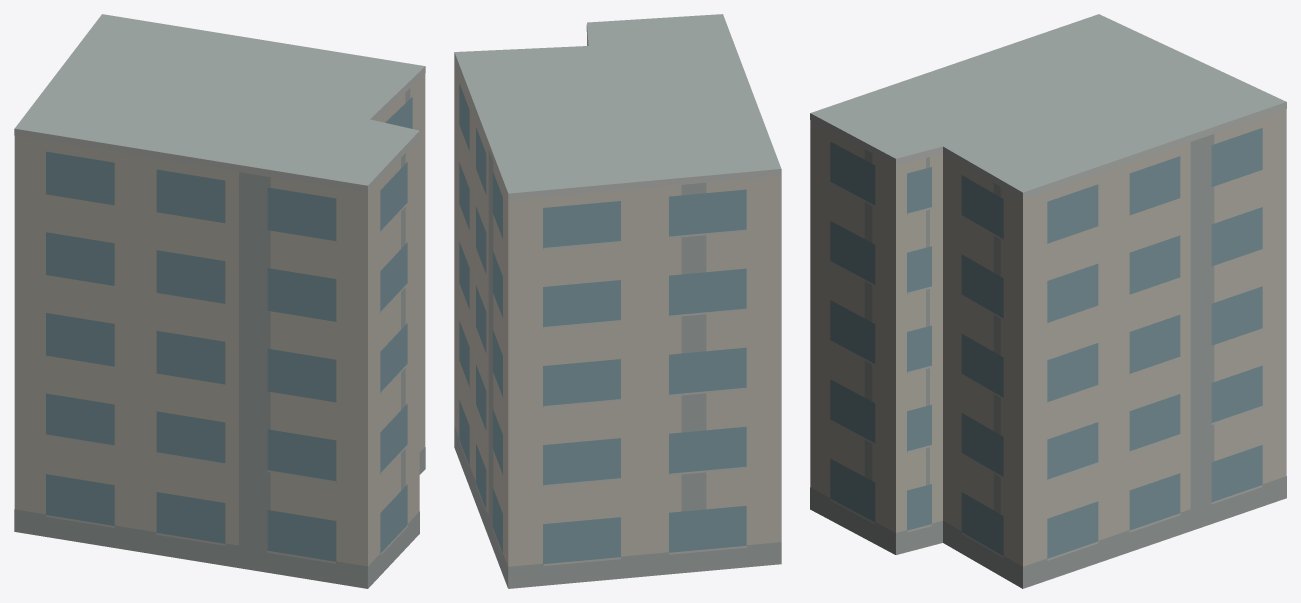
Rendered from survey-upis-32909124.glb.
3 renders of one model, left to right at view 1: azimuth 30°, elevation 25°; view 2: azimuth 150°, elevation 25°; view 3: azimuth 270°, elevation 25°, orthographic.
Parts seen in each view (by area): view 1: survey-upis-32909124.tmp; view 2: survey-upis-32909124.tmp; view 3: survey-upis-32909124.tmp.
Part boxes in pixels (box(x1,y1,x2,y2)): survey-upis-32909124.tmp: box(14, 14, 425, 588); survey-upis-32909124.tmp: box(454, 14, 781, 588); survey-upis-32909124.tmp: box(810, 14, 1286, 588).
Bounding box in the file's own units: 13.3 × 13.75 × 14.99.
